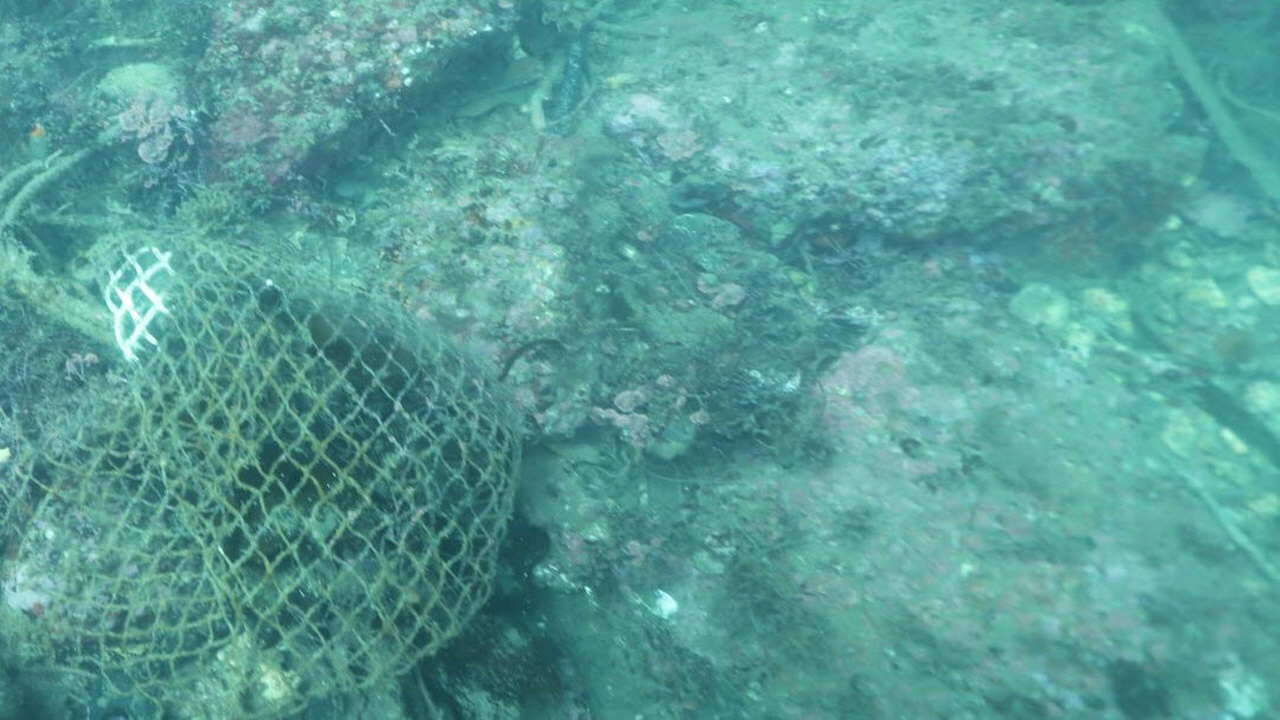bundle of ropes: (0, 143, 120, 353)
fish net: (0, 227, 523, 720)
